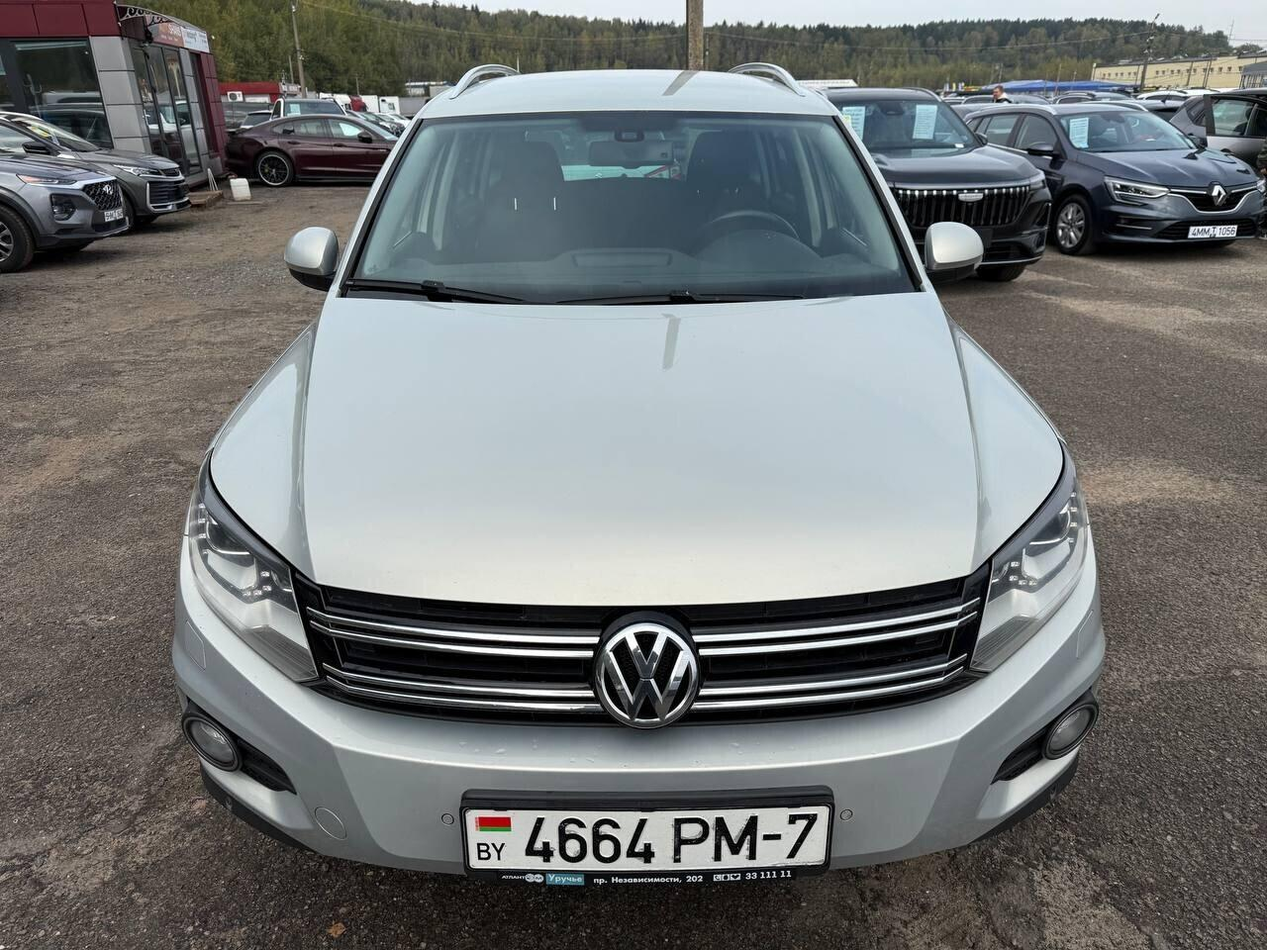Tiguan_2011-2018: (166, 59, 1110, 892)
